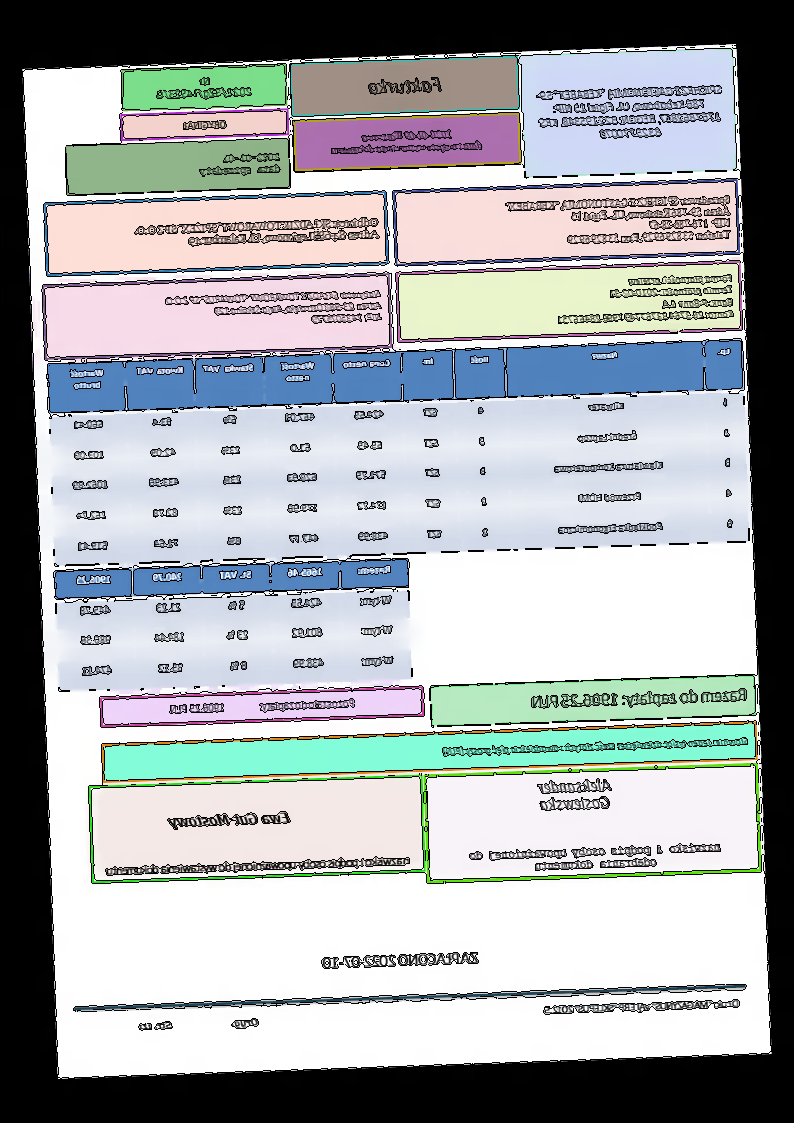Table: (46, 338, 751, 568), (54, 558, 414, 692)
TextBox: (502, 191, 733, 249), (534, 81, 729, 145), (554, 271, 737, 326), (163, 287, 385, 331), (134, 214, 383, 250), (469, 840, 724, 875), (105, 853, 413, 879), (441, 734, 750, 758), (530, 685, 749, 712), (329, 127, 484, 157), (321, 948, 482, 973), (542, 997, 743, 1017), (170, 696, 356, 716), (165, 808, 293, 833), (532, 776, 615, 814), (154, 73, 255, 102), (197, 150, 283, 179), (136, 1015, 262, 1033), (367, 75, 445, 98), (181, 118, 230, 131)
